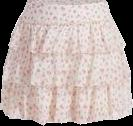Hemline: (0, 109, 131, 125), (1, 77, 131, 88), (9, 45, 124, 54)
Waistline: (27, 0, 105, 5)
